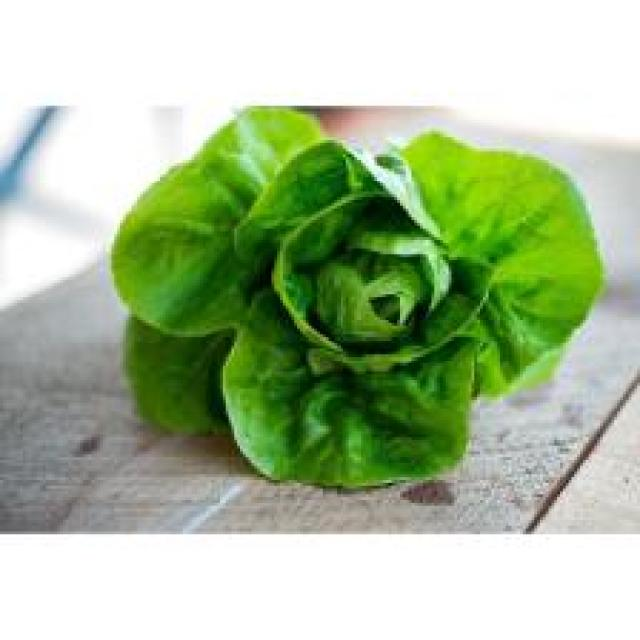Lettuce: (105, 100, 608, 507)
